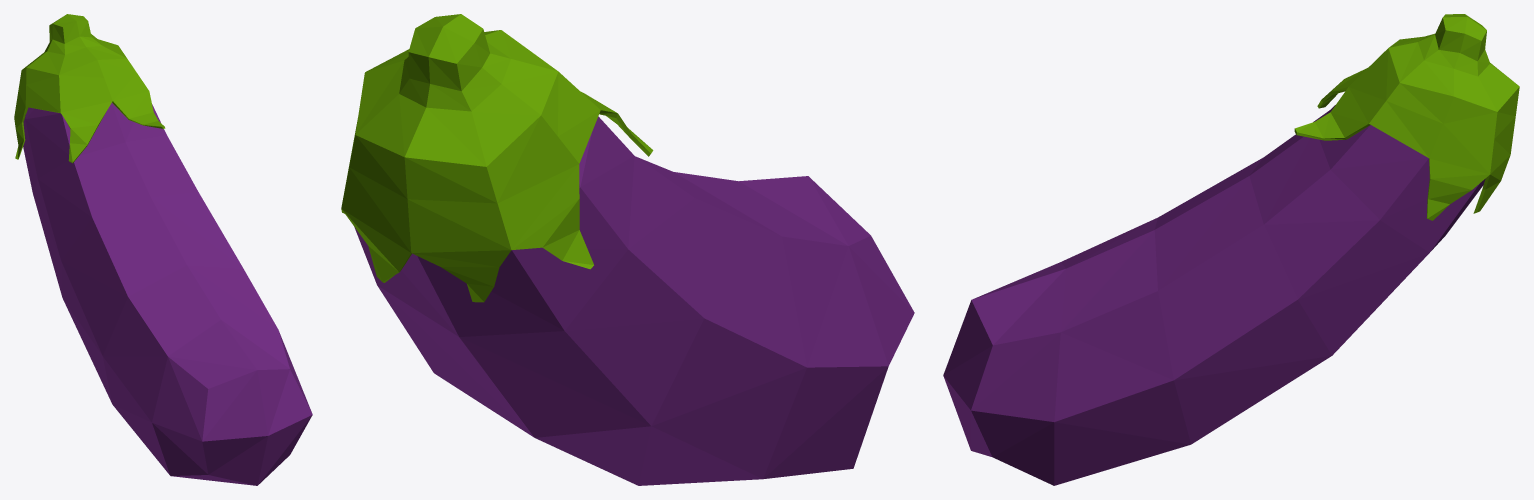
The model's file is obergine.glb.
The picture shows the model from 3 angles, left to right: view 1: azimuth 30°, elevation 25°; view 2: azimuth 150°, elevation 25°; view 3: azimuth 270°, elevation 25°; orthographic projection. The views are drawn at different scales.
Parts seen in each view (by area): view 1: Node.001; view 2: Node.001; view 3: Node.001.
Part boxes in pixels (x1,y1,x2,y2): Node.001: [14, 14, 312, 485]; Node.001: [341, 14, 914, 485]; Node.001: [943, 14, 1519, 485].
Bounding box in the file's own units: 0.1282 × 0.2799 × 0.3186.
